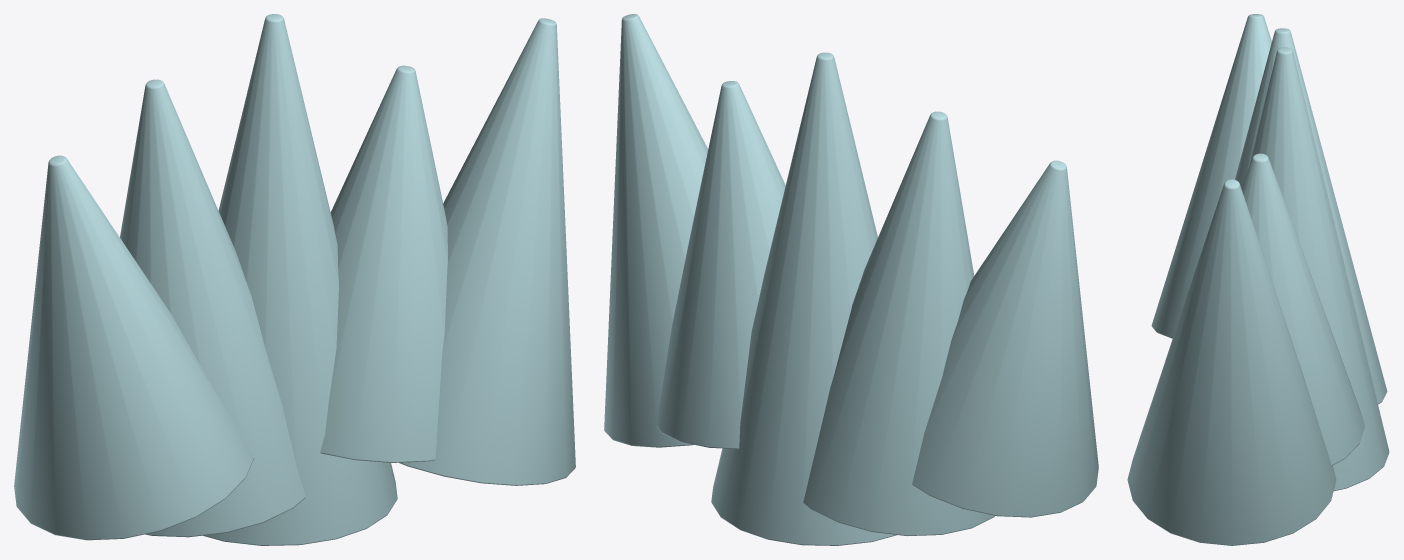
Rendered from landmark-winter.glb.
The picture shows the model from 3 angles, left to right: view 1: azimuth 30°, elevation 25°; view 2: azimuth 150°, elevation 25°; view 3: azimuth 270°, elevation 25°; orthographic projection. The views are drawn at different scales.
Parts seen in each view (by area): view 1: Geometry_Ice; view 2: Geometry_Ice; view 3: Geometry_Ice.
Boxes of the visible parts, x1=… form: Geometry_Ice: x1=14, y1=14, x2=575, y2=545; Geometry_Ice: x1=604, y1=14, x2=1098, y2=545; Geometry_Ice: x1=1127, y1=14, x2=1389, y2=545.
Bounding box in the file's own units: 7.9 × 7 × 4.12.
